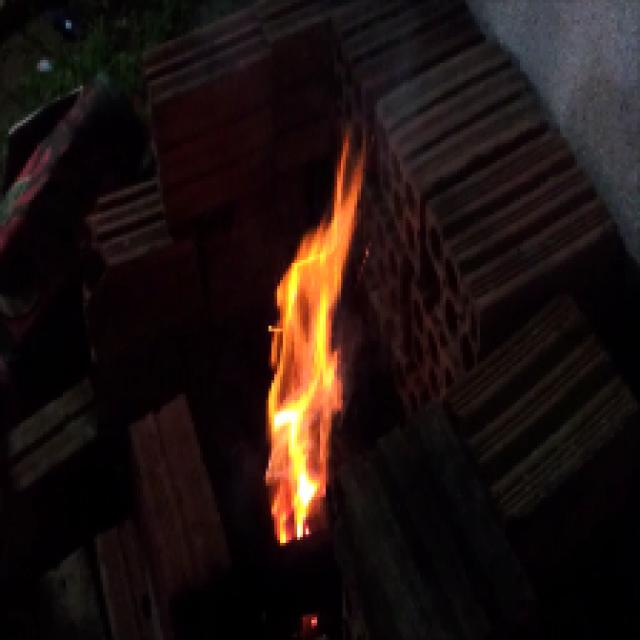fire: (260, 128, 367, 549)
